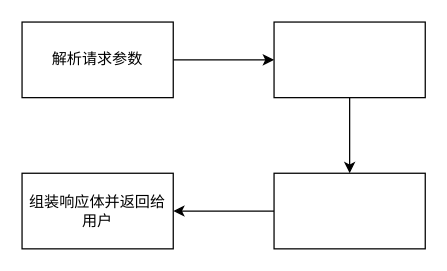
Some shapes in this 447 by 271 pixel diagram are drawn without their labels. The centre of each missing label's shape, as x and y in pixels:
"向mysql中查询用户的信息" goes at point (349, 210).
"检查token是否有效" goes at point (349, 59).
